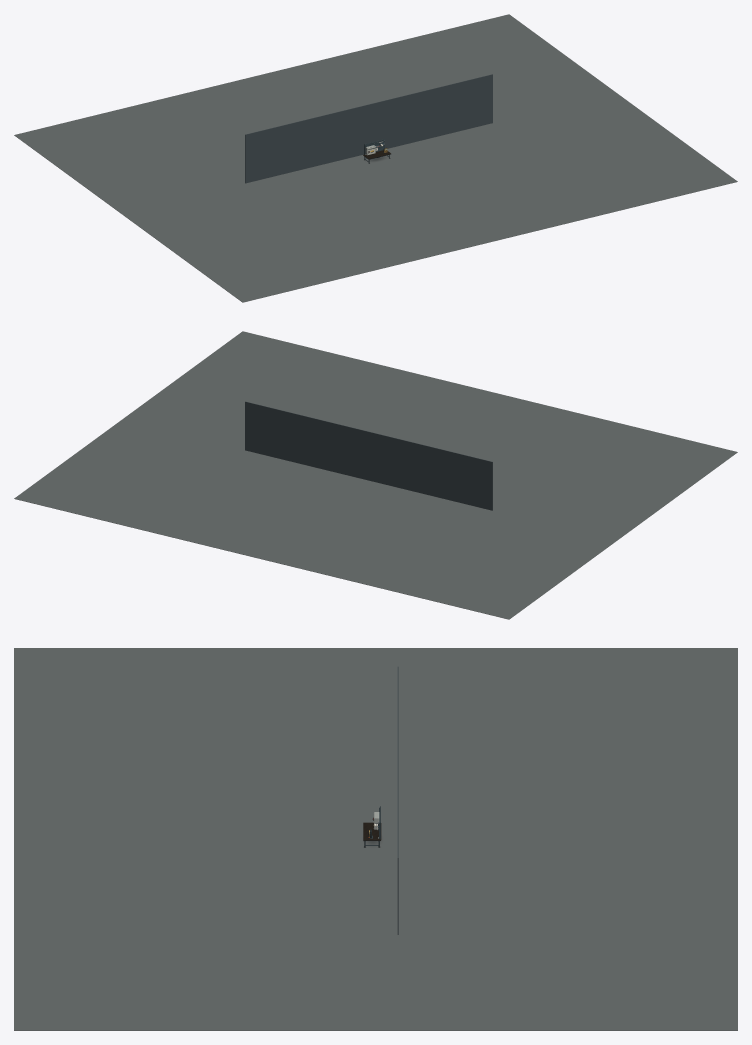
The model's file is practical-arena.glb.
3 views of the same model, one above another, from view 1: azimuth 30°, elevation 25°; view 2: azimuth 150°, elevation 25°; view 3: azimuth 270°, elevation 25° (orthographic). The views are drawn at different scales.
Visible parts, largest first — view 1: WorkshopSurround · Workshop concrete, WorkshopSurround · Workshop steel wall; view 2: WorkshopSurround · Workshop concrete, WorkshopSurround · Workshop steel wall; view 3: WorkshopSurround · Workshop concrete.
Part boxes in pixels (x1=…): WorkshopSurround · Workshop concrete: x1=14, y1=14, x2=737, y2=302; WorkshopSurround · Workshop steel wall: x1=245, y1=74, x2=492, y2=183; WorkshopSurround · Workshop concrete: x1=14, y1=331, x2=737, y2=619; WorkshopSurround · Workshop steel wall: x1=245, y1=401, x2=492, y2=510; WorkshopSurround · Workshop concrete: x1=14, y1=648, x2=737, y2=1030.
Bounding box in the file's own units: 200 × 22 × 160.
25 materials, 3 textured.
